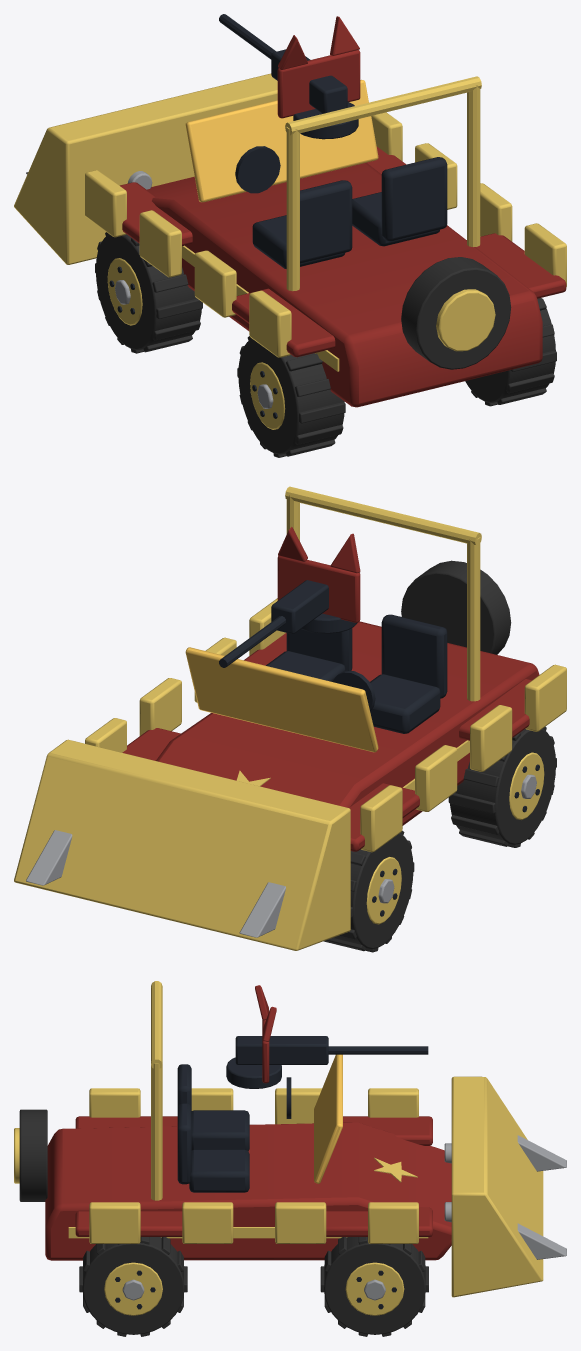
File: baeren_rammbock.glb
3 views of the same model, one above another, from view 1: azimuth 30°, elevation 25°; view 2: azimuth 150°, elevation 25°; view 3: azimuth 270°, elevation 25° (orthographic). The views are drawn at different scales.
Visible parts, largest first — view 1: chassis, plow, windshield, spare, wheel_-1_-0.52, wheel_-1_0.52, seatback_1, seatback_-1, mg_shield, spare_rim, rollbar_top, fender_1_-0.52 (+25 smaller); view 2: plow, chassis, windshield, spare, wheel_-1_-0.52, seatback_-1, wheel_-1_0.52, seat_-1, mg_shield, rollbar_top, era_-1_1, rollbar_up_-1 (+22 smaller); view 3: chassis, plow, wheel_1_0.52, wheel_1_-0.52, spare, seat_1, mg_body, windshield, seat_-1, era_1_0, era_1_1, era_1_2 (+20 smaller).
Part boxes in pixels (x1,y1,x2,y2): chassis: [147, 162, 542, 407]; plow: [14, 73, 277, 264]; windshield: [185, 79, 378, 202]; spare: [401, 257, 511, 369]; wheel_-1_-0.52: [238, 339, 344, 454]; wheel_-1_0.52: [95, 234, 201, 350]; seatback_1: [381, 157, 447, 241]; seatback_-1: [300, 180, 352, 263]; mg_shield: [277, 50, 360, 118]; spare_rim: [436, 289, 495, 351]; rollbar_top: [285, 76, 481, 135]; fender_1_-0.52: [476, 233, 566, 298]; plow: [14, 739, 350, 950]; chassis: [156, 621, 539, 825]; windshield: [185, 647, 378, 752]; spare: [401, 560, 511, 654]; wheel_-1_-0.52: [450, 729, 555, 844]; seatback_-1: [381, 614, 447, 698]; wheel_-1_0.52: [333, 833, 413, 949]; seat_-1: [370, 674, 440, 733]; mg_shield: [277, 556, 360, 622]; rollbar_top: [285, 486, 481, 545]; era_-1_1: [470, 705, 512, 771]; rollbar_up_-1: [467, 537, 480, 701]; chassis: [45, 1122, 451, 1260]; plow: [451, 1076, 543, 1297]; wheel_1_0.52: [324, 1237, 425, 1334]; wheel_1_-0.52: [82, 1237, 184, 1334]; spare: [19, 1109, 47, 1201]; seat_1: [189, 1149, 249, 1192]; mg_body: [235, 1036, 328, 1064]; windshield: [314, 1054, 342, 1183]; seat_-1: [191, 1110, 249, 1150]; era_1_0: [89, 1202, 140, 1243]; era_1_1: [182, 1202, 233, 1243]; era_1_2: [275, 1202, 326, 1243].
Size of the model in its own units: 1.83 by 2.05 by 3.57.
